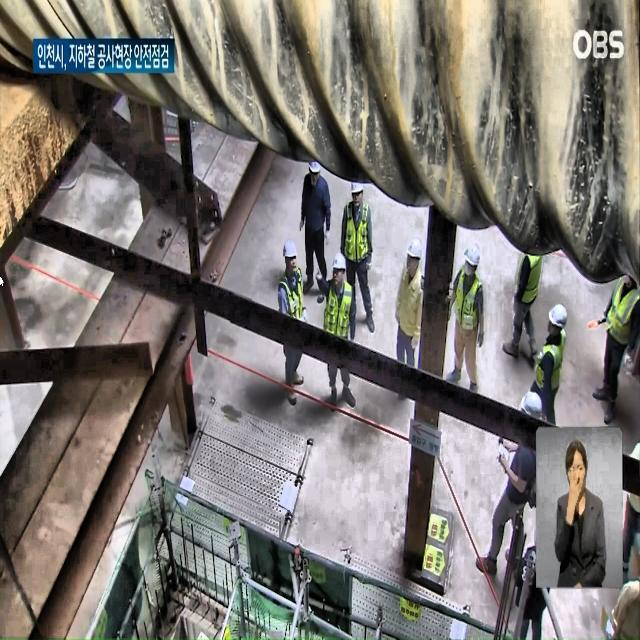safety_helmet: (519, 374, 550, 426), (456, 234, 484, 289), (548, 295, 577, 344), (400, 234, 433, 275), (281, 230, 303, 277), (348, 170, 364, 210), (308, 158, 326, 184), (330, 250, 348, 274)
safety_jacket: (448, 271, 492, 353), (605, 285, 640, 366), (322, 284, 354, 364), (278, 271, 310, 347), (514, 243, 543, 326), (338, 211, 370, 284), (534, 342, 558, 397)
